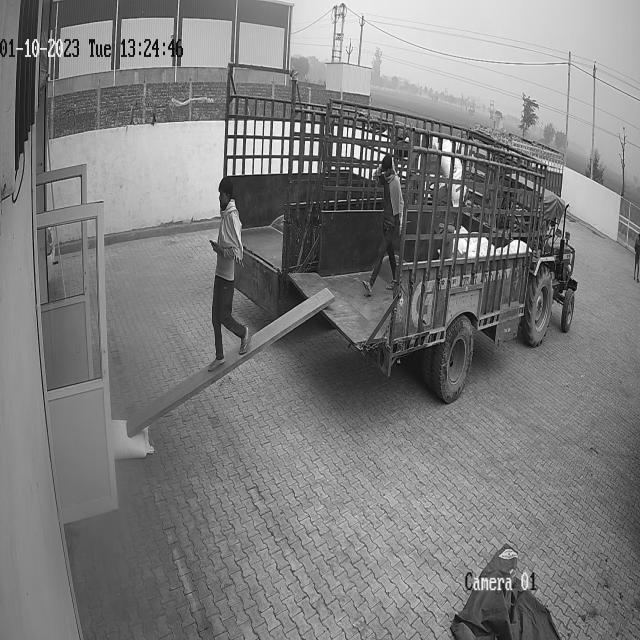sack: (112, 419, 152, 460)
